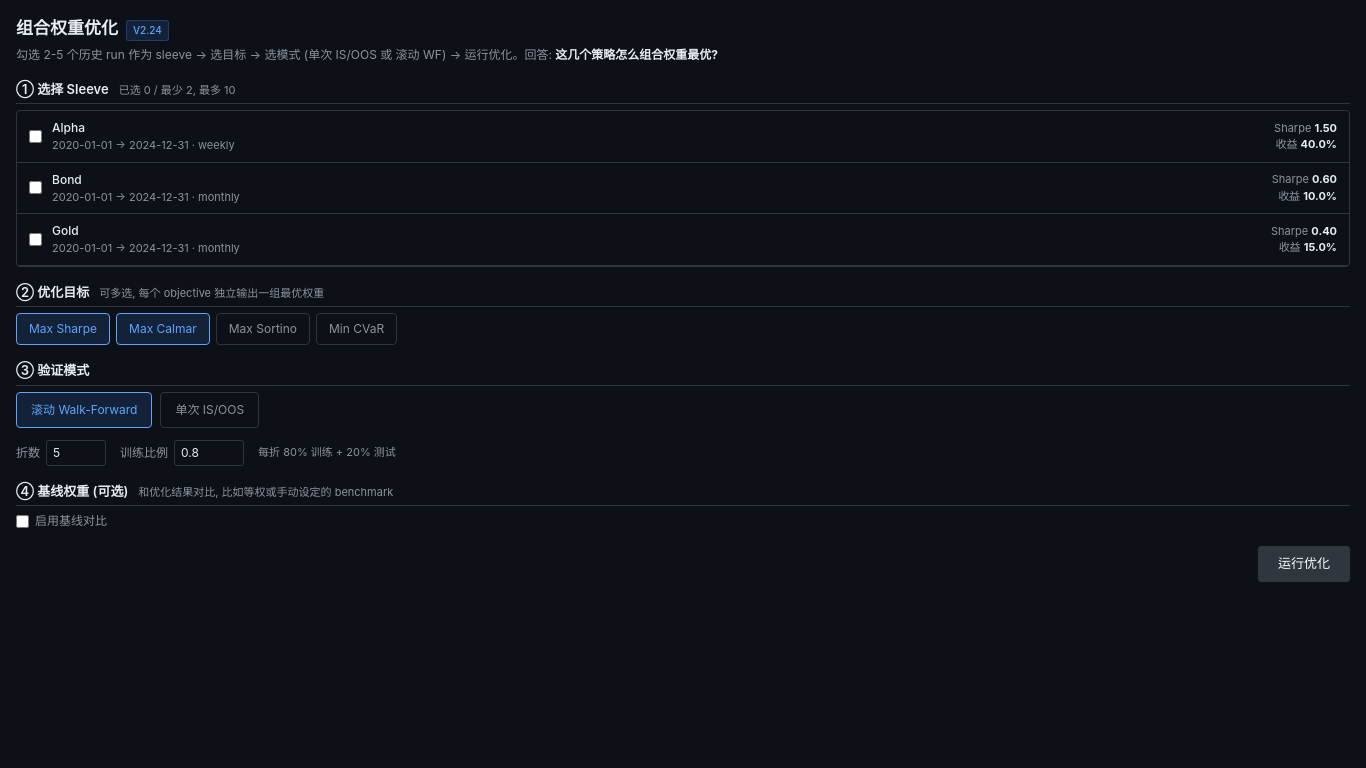
Scenario: SleeveOptimizationPanel - sleeve selection › clicking selected sleeve toggles it off
This screenshot has width=1366, height=768.
Expected: the text "Alpha" is shown, [52,120,85,135]
Click the text "Alpha".
click(683, 137)  # box [17,111,1349,162]
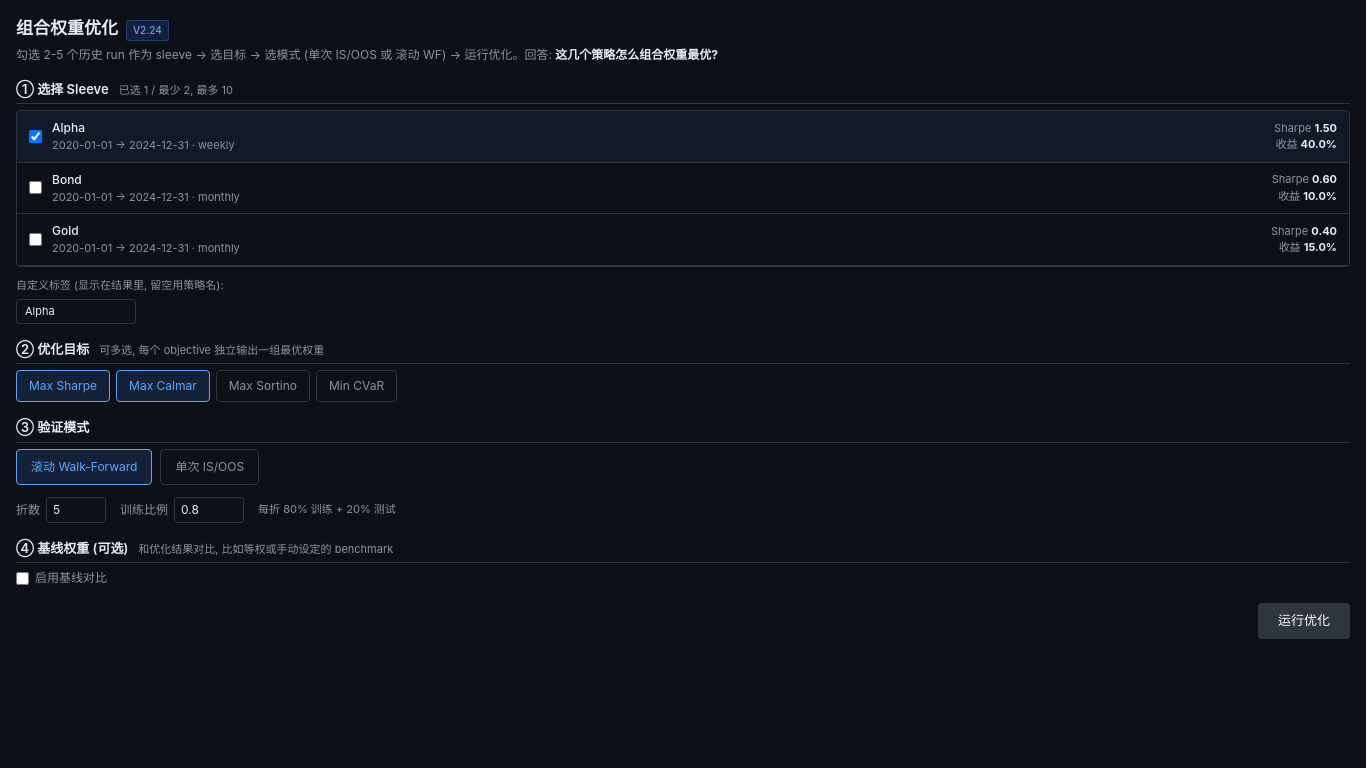
Expected: the text "已选 1 / 最少 2, 最多 10" is shown, [119,82,233,98]
Click the text "Alpha".
click(683, 137)  # box [17,111,1349,162]
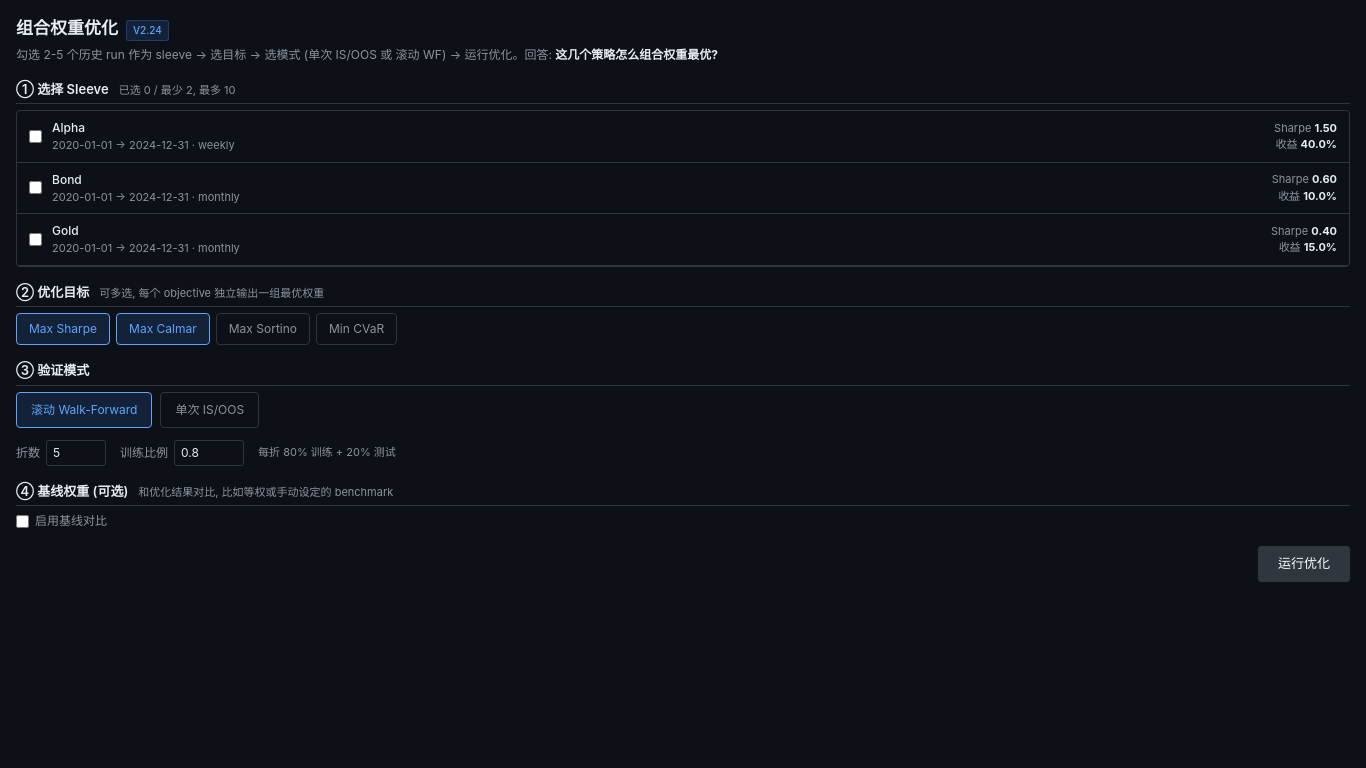
Expected: the text "已选 0 / 最少 2, 最多 10" is shown, [119,82,236,98]
